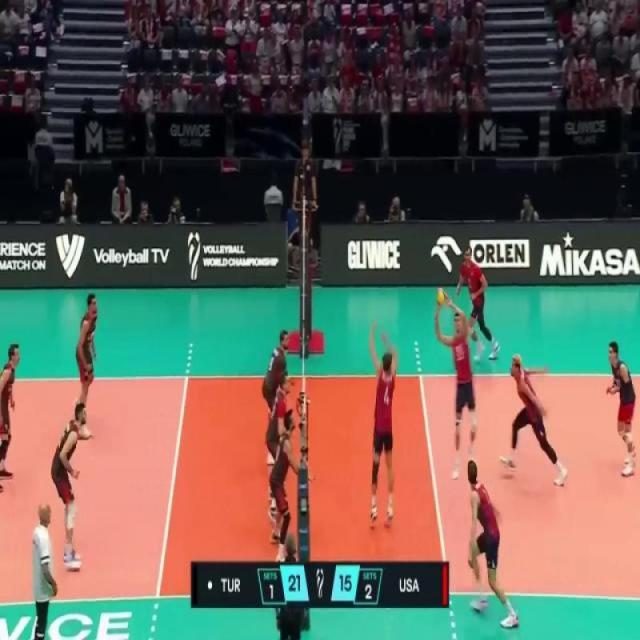volleyball: (434, 286, 449, 308)
